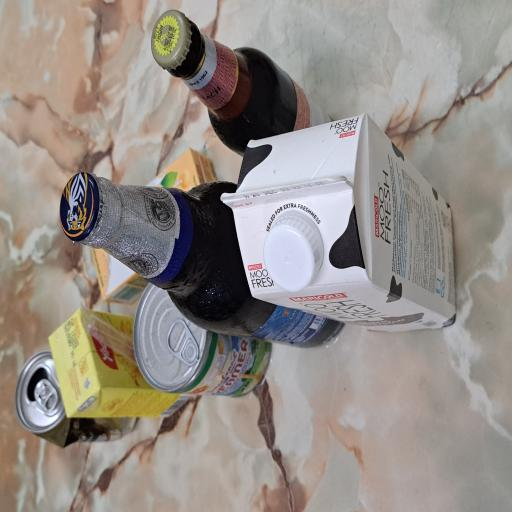can: (90, 172, 174, 362), (52, 21, 122, 181)
drink carton: (137, 294, 291, 512), (156, 116, 268, 281), (66, 63, 150, 250)
glass bottle: (124, 78, 256, 460), (271, 197, 376, 414)
plastic bottle cap: (162, 349, 229, 430)
pop tab: (109, 213, 142, 266), (73, 41, 99, 77)
